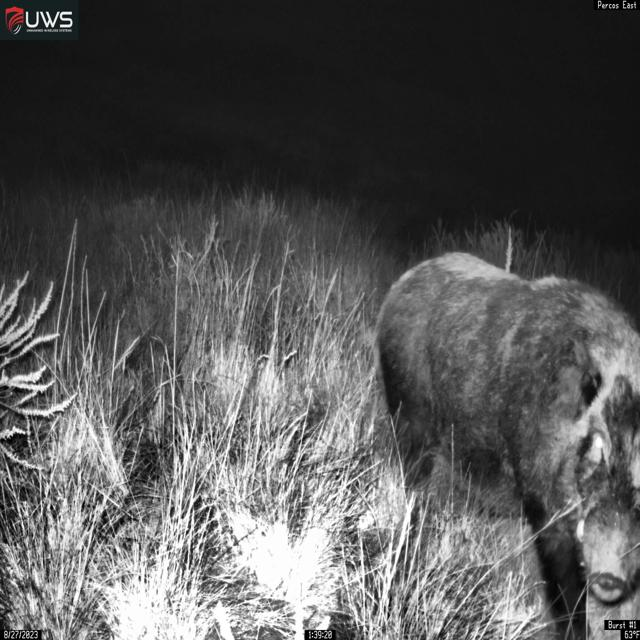pig: (372, 250, 640, 640)
